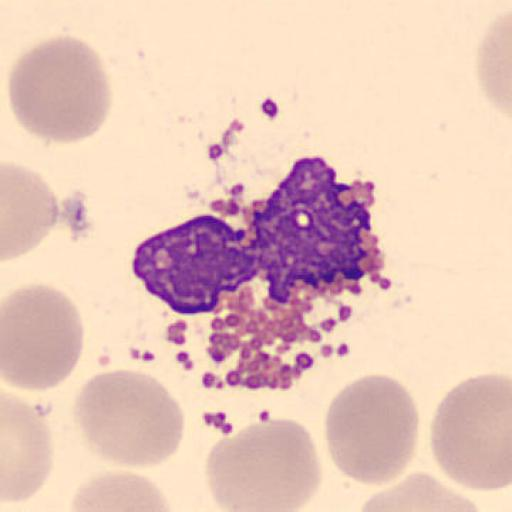RBC: (7, 34, 114, 144), (72, 366, 186, 469), (202, 416, 324, 512), (323, 372, 421, 487), (428, 372, 512, 493), (2, 281, 86, 392), (2, 390, 56, 504), (1, 160, 60, 263), (353, 471, 485, 512), (69, 469, 177, 512), (475, 7, 512, 119)
WBC: (132, 169, 394, 391)
